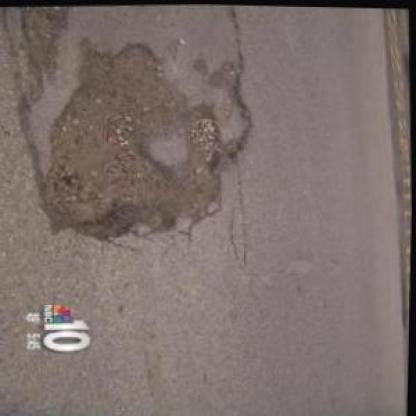pothole: (38, 32, 257, 243)
